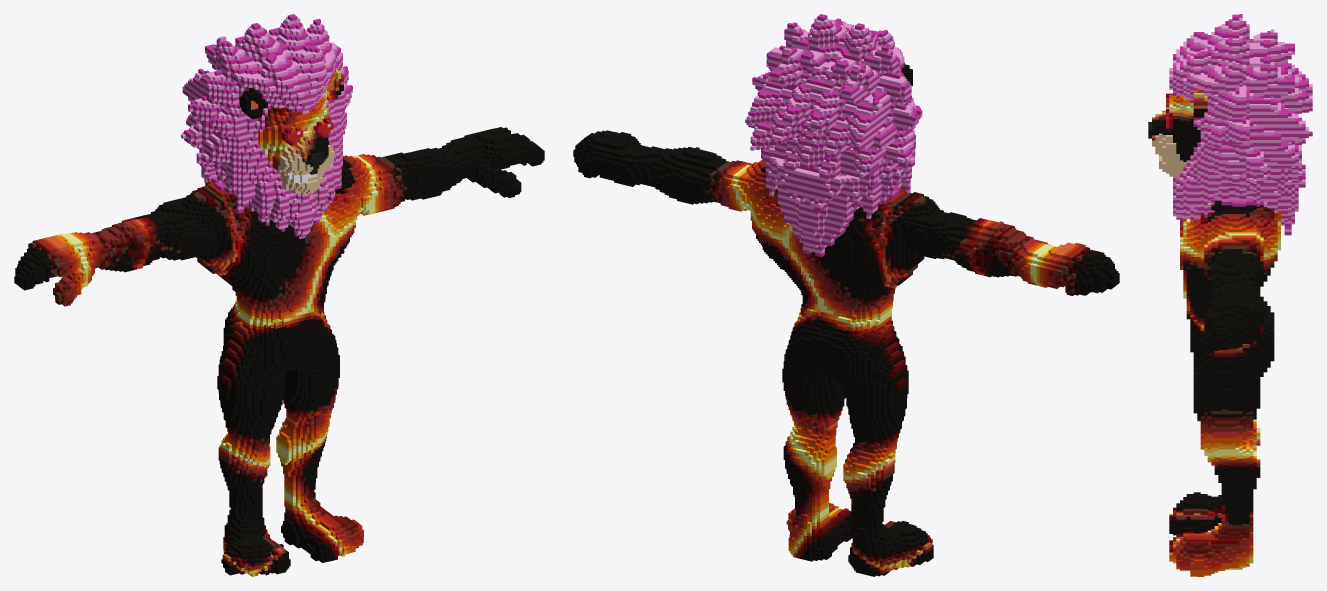
3 renders of one model, left to right at view 1: azimuth 30°, elevation 25°; view 2: azimuth 150°, elevation 25°; view 3: azimuth 270°, elevation 25°, orthographic. The views are drawn at different scales.
Visible parts, largest first — view 1: grin; view 2: grin; view 3: grin.
Boxes of the visible parts, x1,y1,x2,y2 form: grin: (14,14,544,576); grin: (573,14,1119,576); grin: (1148,14,1312,576).
Size of the model in its own units: 17.2 by 16.5 by 4.7.
Materials: 4 (4 with a texture image).
